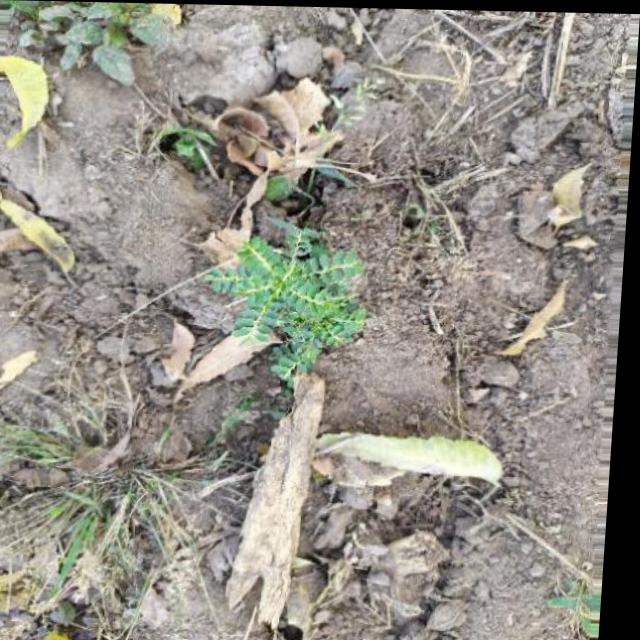weed: (0, 411, 210, 625), (199, 217, 391, 385)
